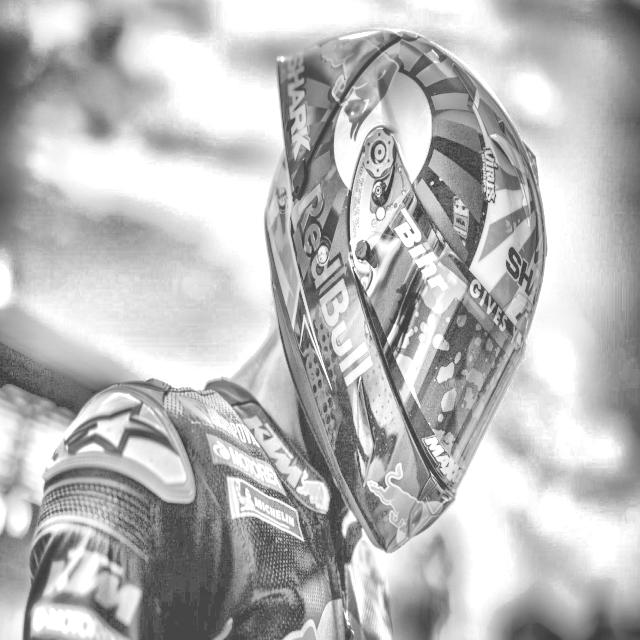Helmet: (267, 28, 555, 562)
